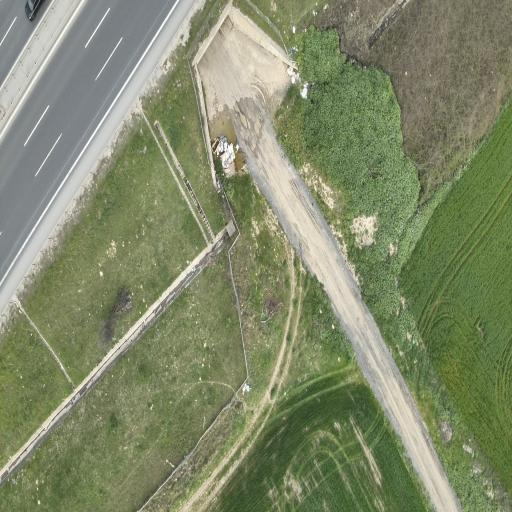car: (26, 0, 44, 20)
